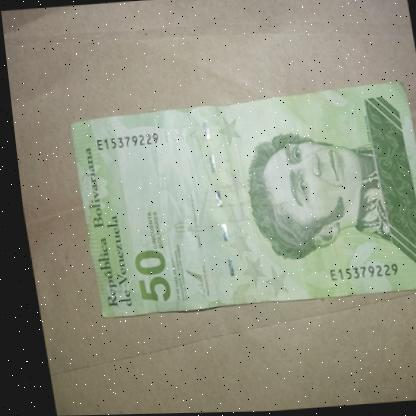vef_front: (62, 80, 416, 319)
